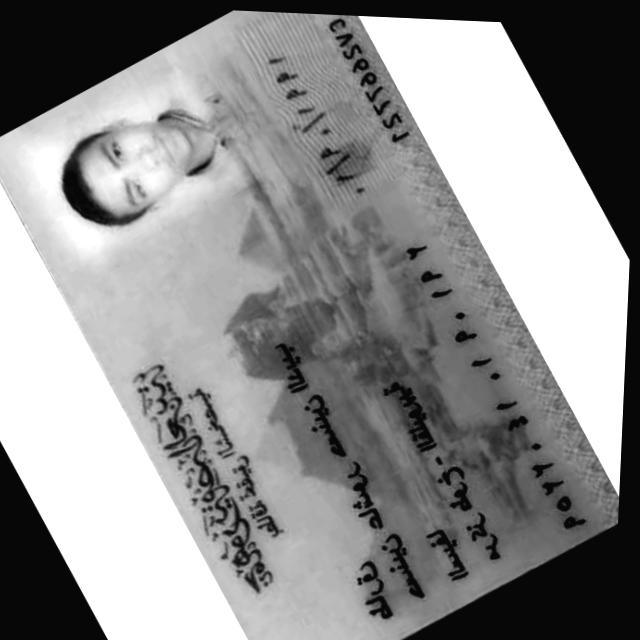id_card: (0, 10, 619, 640)
